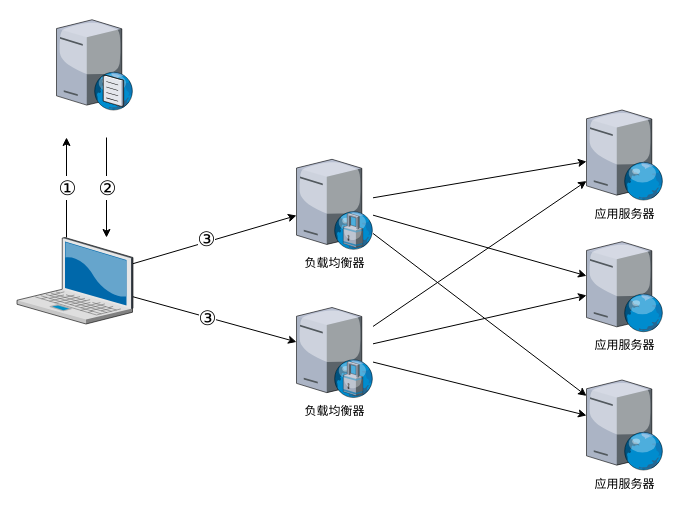
Some shapes in this 680 by 508 pixel diagram are drawn without their labels. The centre of each missing label's shape, as x and y in pixels:
DNS服务器: point (94, 63)
客户端: point (74, 280)
